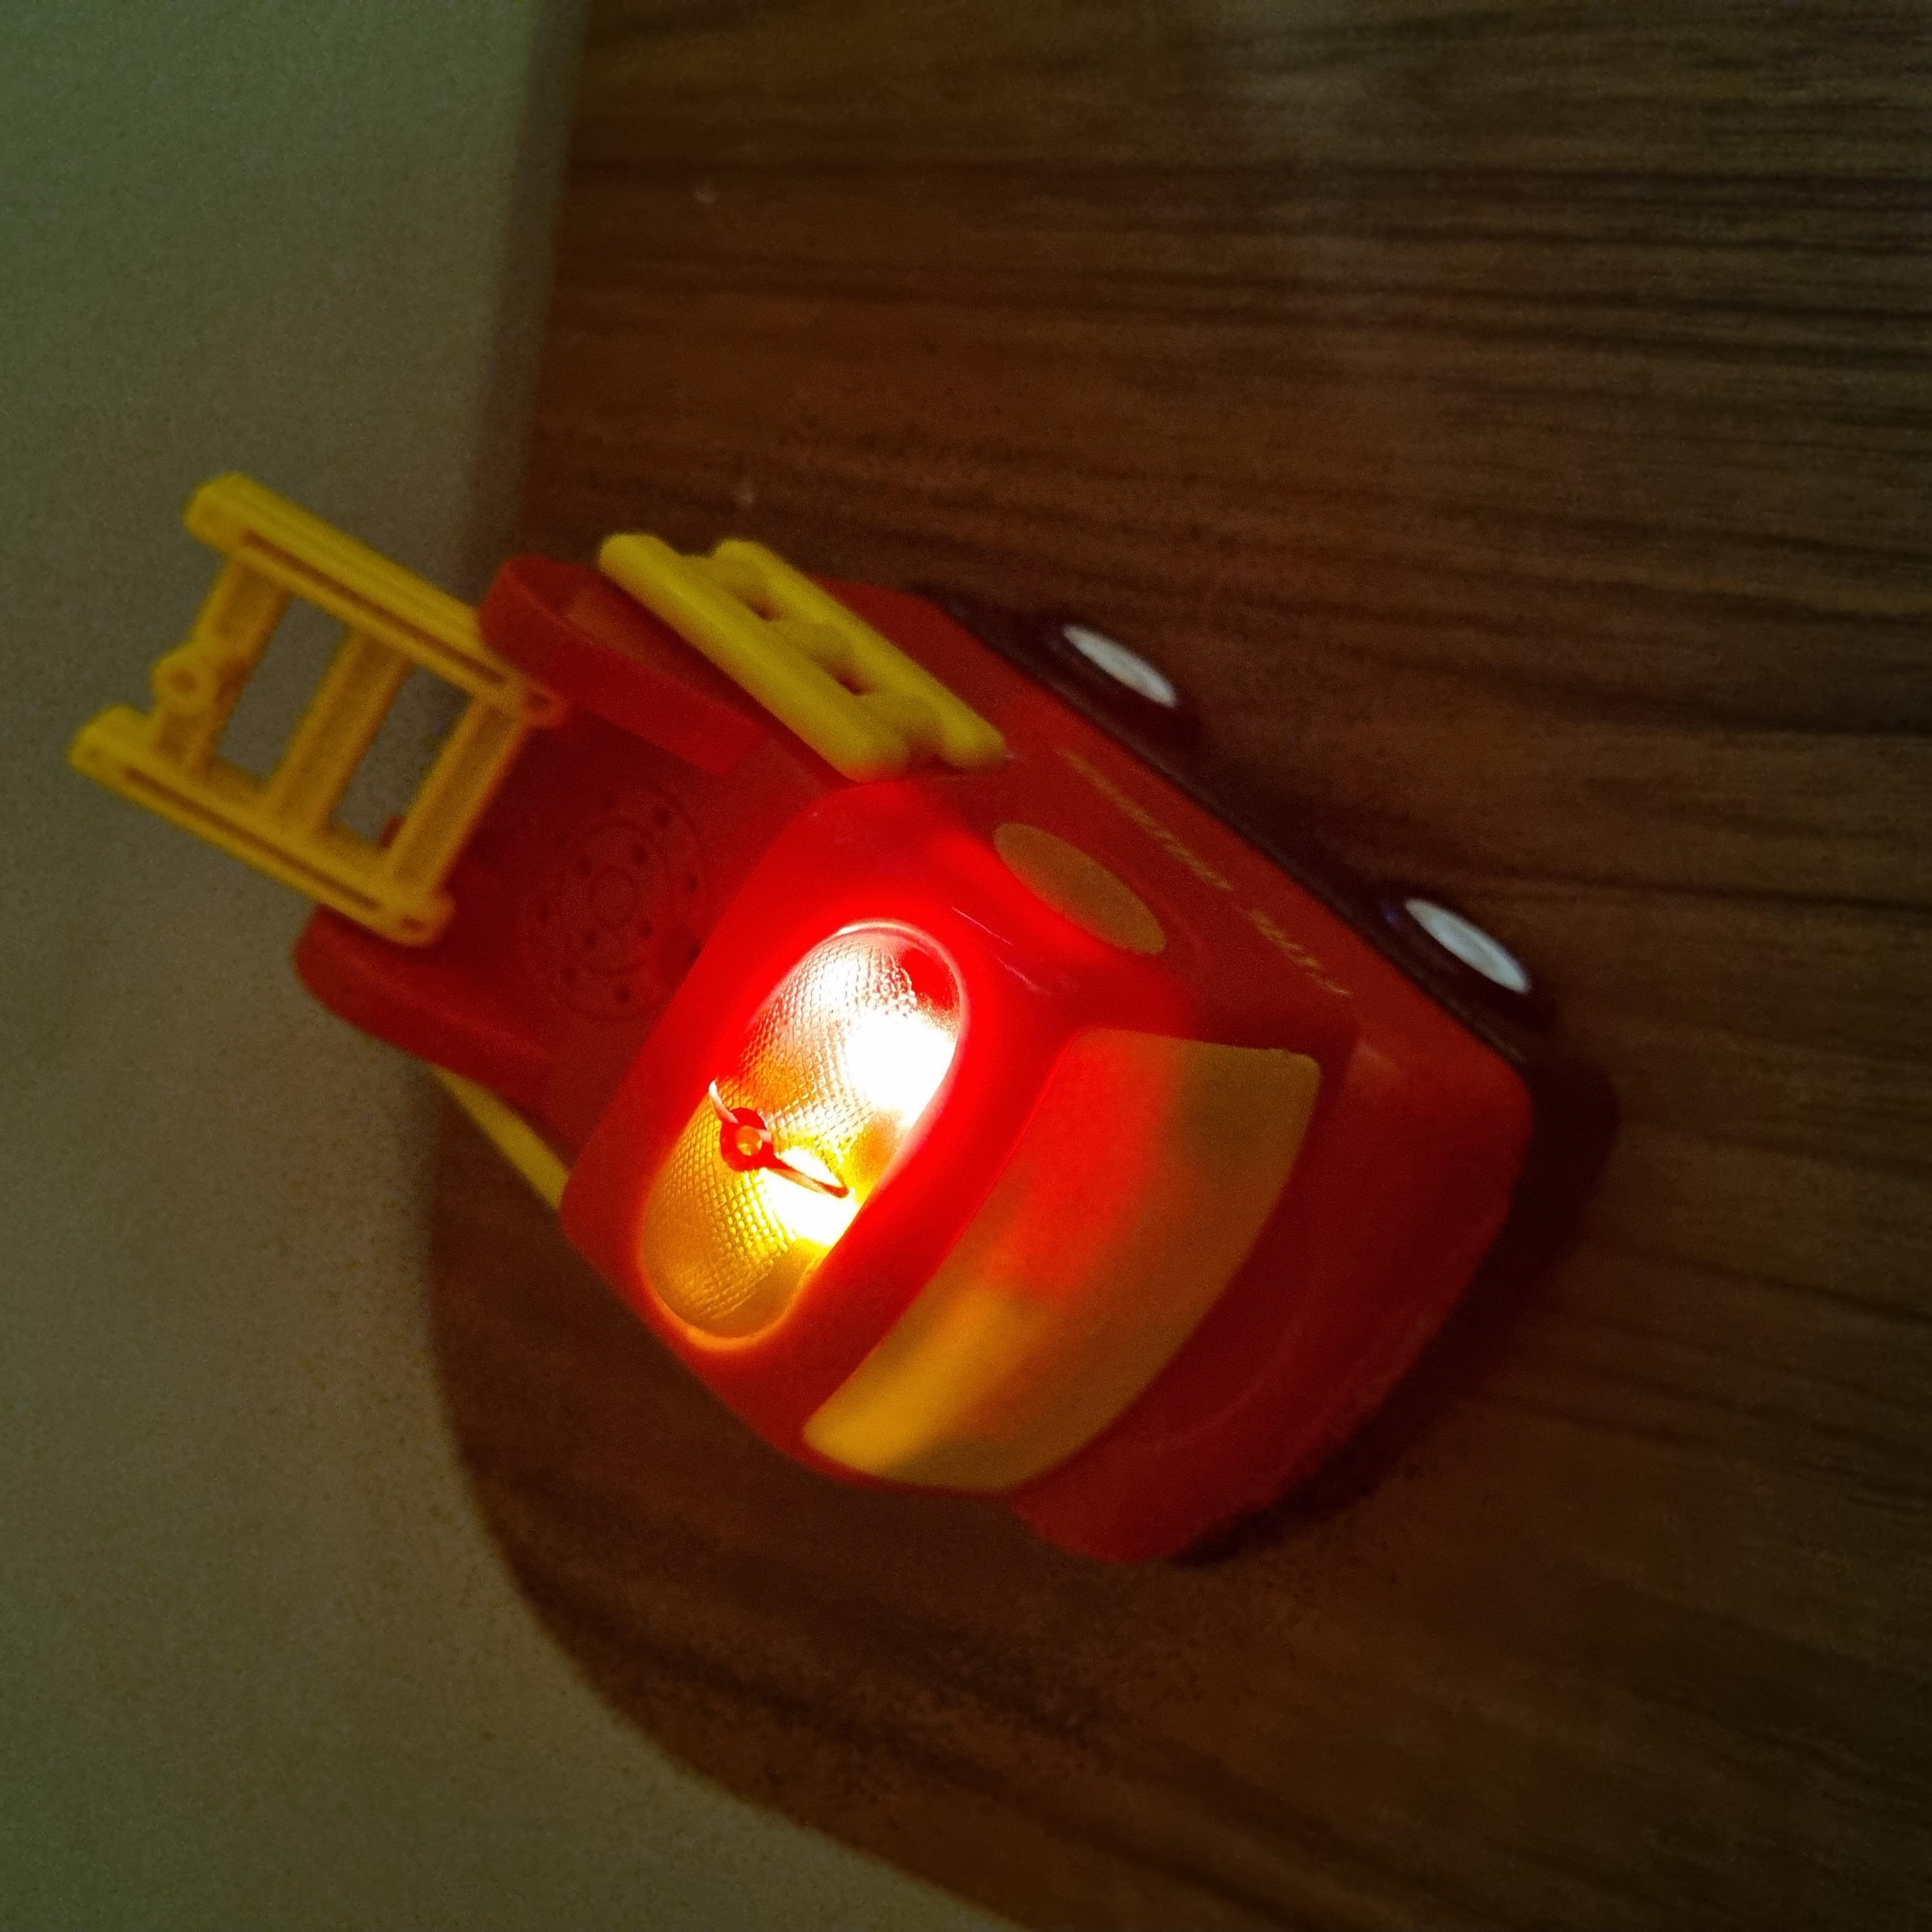firetruck_on: (382, 73, 1461, 1601)
